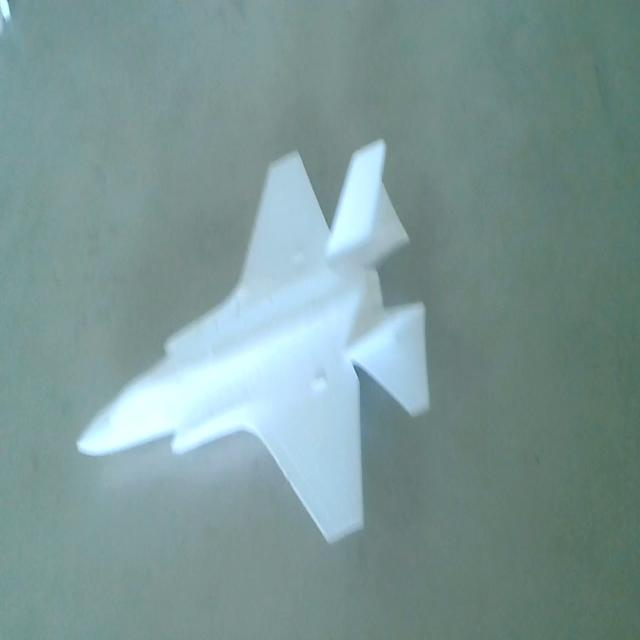Jet: (76, 140, 431, 560)
